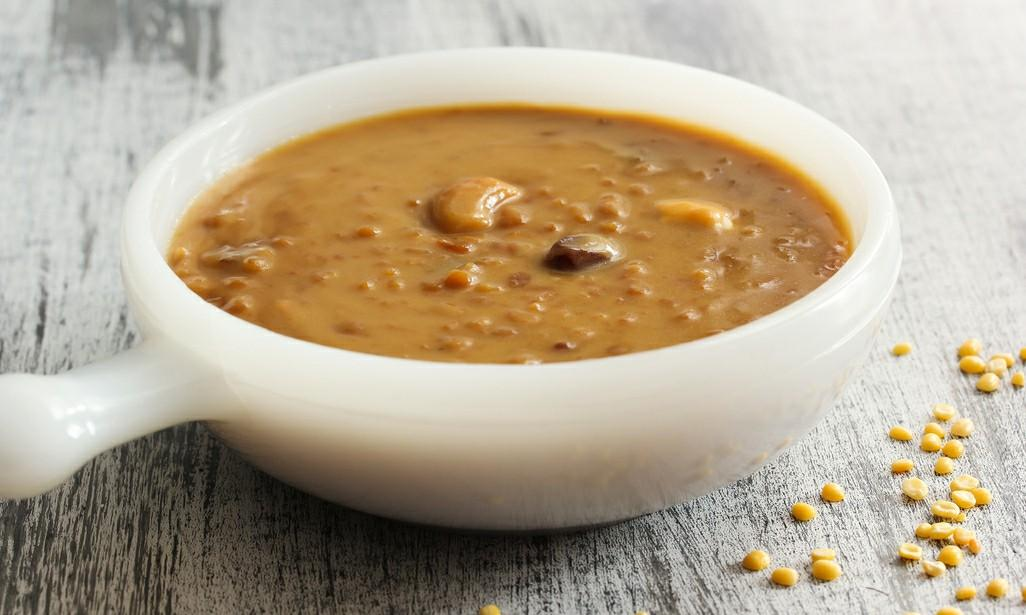Dal: (165, 104, 854, 363)
